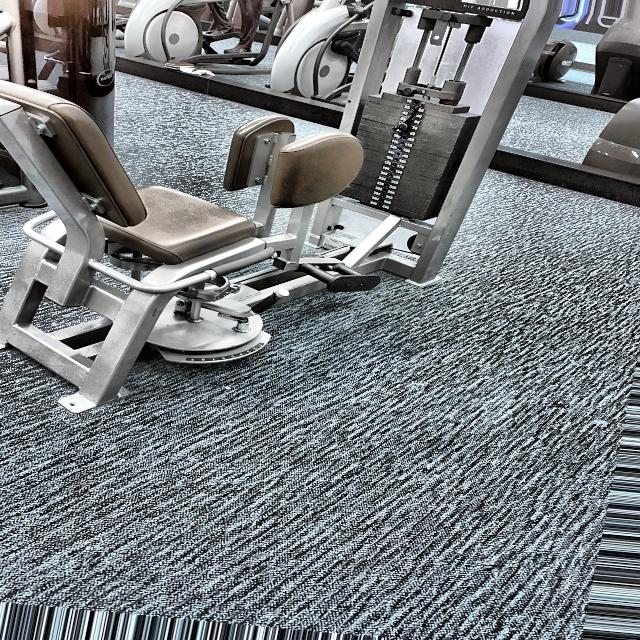hip_adduction_machine: (14, 70, 374, 422), (462, 3, 518, 18)
